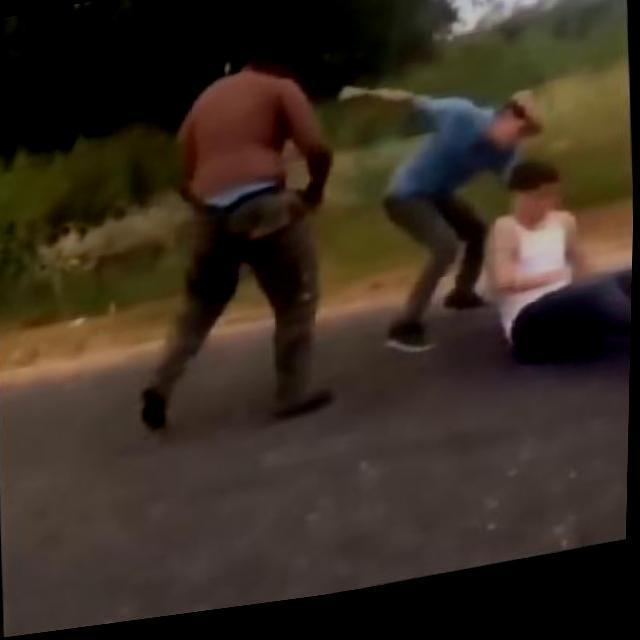fight: (335, 49, 638, 416)
